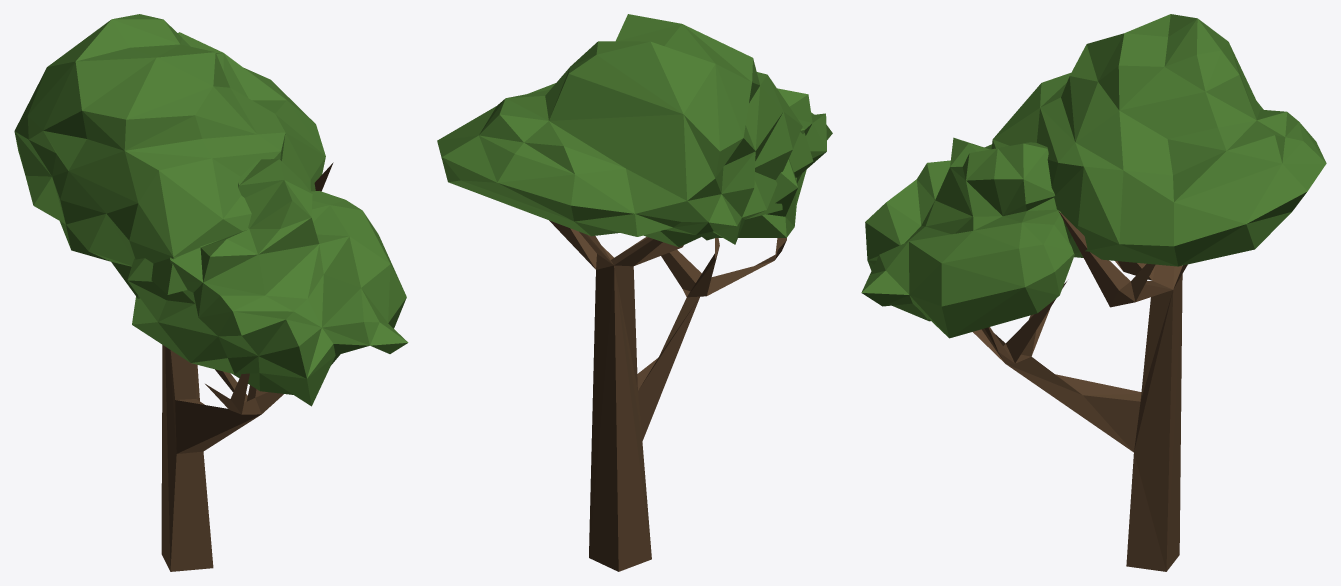
File: tree_2.glb
3 renders of one model, left to right at view 1: azimuth 30°, elevation 25°; view 2: azimuth 150°, elevation 25°; view 3: azimuth 270°, elevation 25°, orthographic. The views are drawn at different scales.
Parts seen in each view (by area): view 1: lod0; view 2: lod0; view 3: lod0.
Part boxes in pixels (<box>): lod0: <box>14,14,408,571</box>; lod0: <box>437,14,832,571</box>; lod0: <box>861,14,1326,571</box>.
Size of what is drawn, in the model's own units: 3.62 by 6.79 by 5.53.
